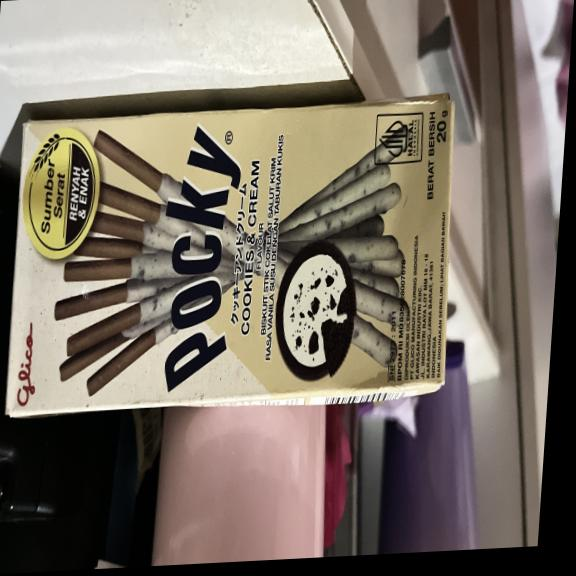Kertas: (6, 99, 452, 410)
